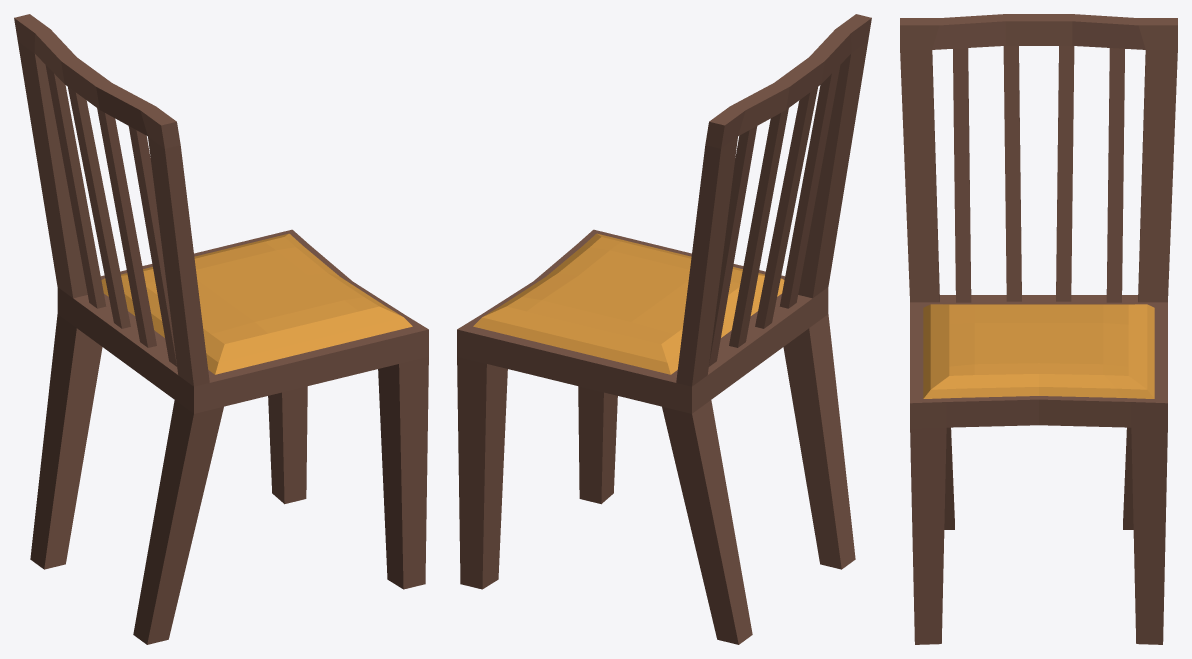
File: chair.glb
3 renders of one model, left to right at view 1: azimuth 30°, elevation 25°; view 2: azimuth 150°, elevation 25°; view 3: azimuth 270°, elevation 25°, orthographic. The views are drawn at different scales.
Parts seen in each view (by area): view 1: chair_Cube.026; view 2: chair_Cube.026; view 3: chair_Cube.026.
Boxes of the visible parts, x1=… form: chair_Cube.026: x1=14, y1=14, x2=428, y2=644; chair_Cube.026: x1=457, y1=14, x2=871, y2=644; chair_Cube.026: x1=900, y1=14, x2=1177, y2=644.
Size of the model in its own units: 0.51 by 0.917 by 0.4607.
